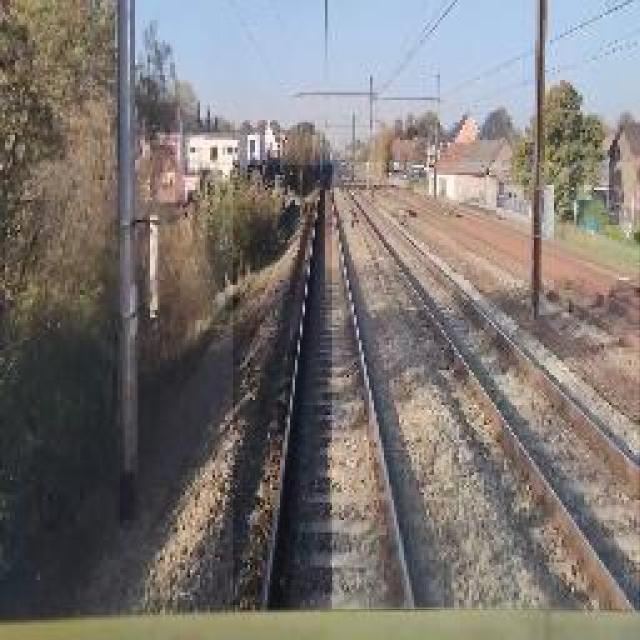rail: (334, 164, 640, 610), (234, 167, 441, 613)
